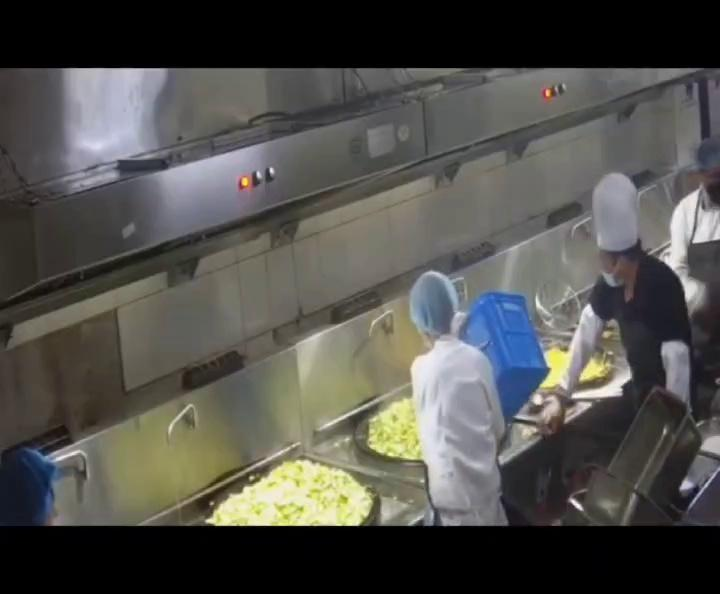gloves: (404, 268, 467, 334)
